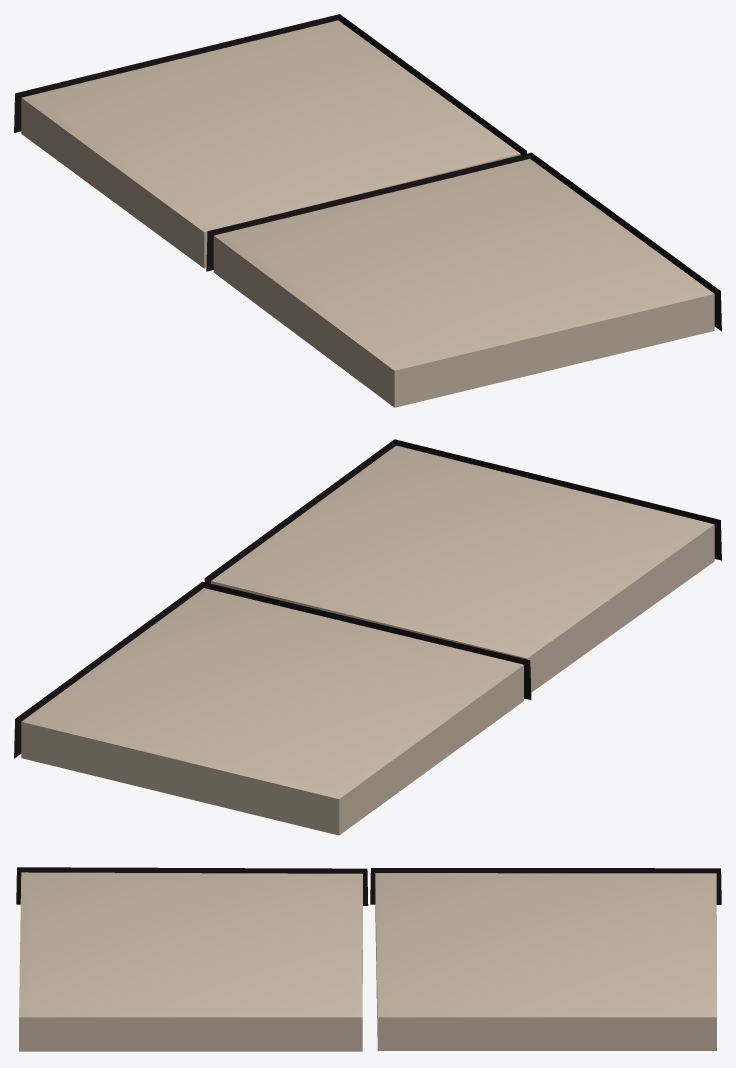
File: SM_Trail_Paving_01.fbx
3 views of the same model, one above another, from view 1: azimuth 30°, elevation 25°; view 2: azimuth 150°, elevation 25°; view 3: azimuth 270°, elevation 25° (orthographic). The views are drawn at different scales.
Parts seen in each view (by area): view 1: SM_Trail_Paving_01; view 2: SM_Trail_Paving_01; view 3: SM_Trail_Paving_01.
Boxes of the visible parts, x1,y1,x2,y2 form: SM_Trail_Paving_01: [14, 14, 721, 407]; SM_Trail_Paving_01: [14, 439, 721, 835]; SM_Trail_Paving_01: [16, 867, 721, 1051].
Size of the model in its own units: 1.49 by 0.2022 by 2.99.
